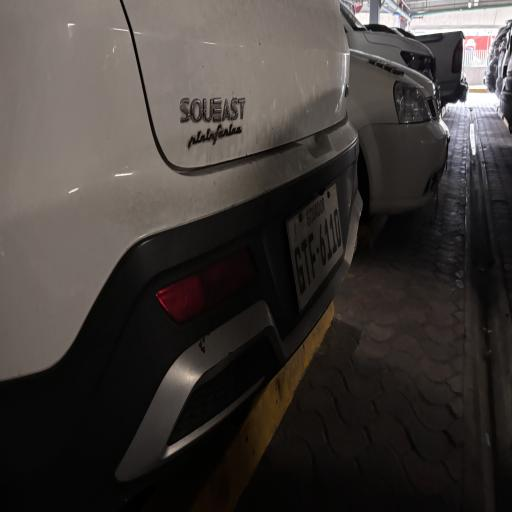license_plate: (287, 184, 343, 311)
